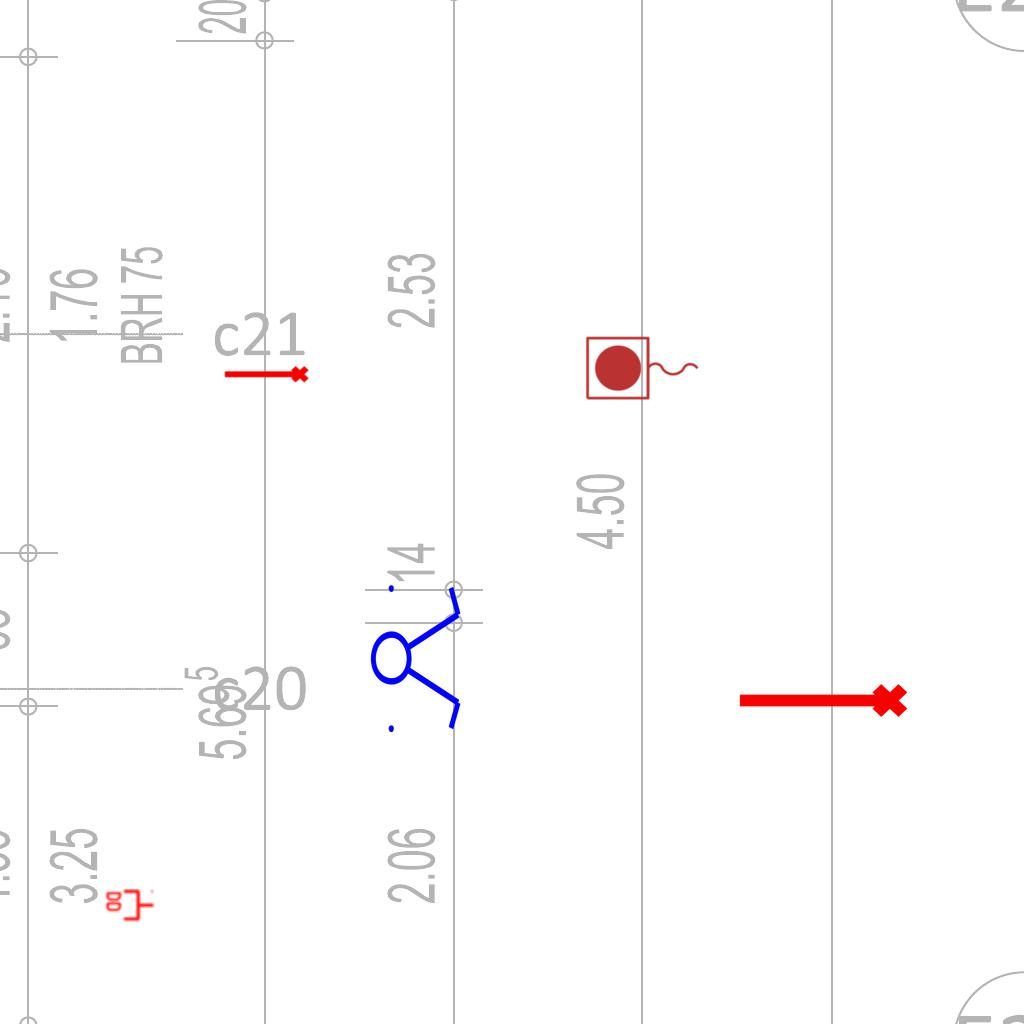ASR_Ansaugoeffnung: (734, 680, 910, 726), (222, 364, 310, 387)
Datenanschluss_zweifach: (104, 889, 155, 923)
Serienschalter: (369, 573, 465, 741)
Zugtaster: (582, 333, 704, 405)
